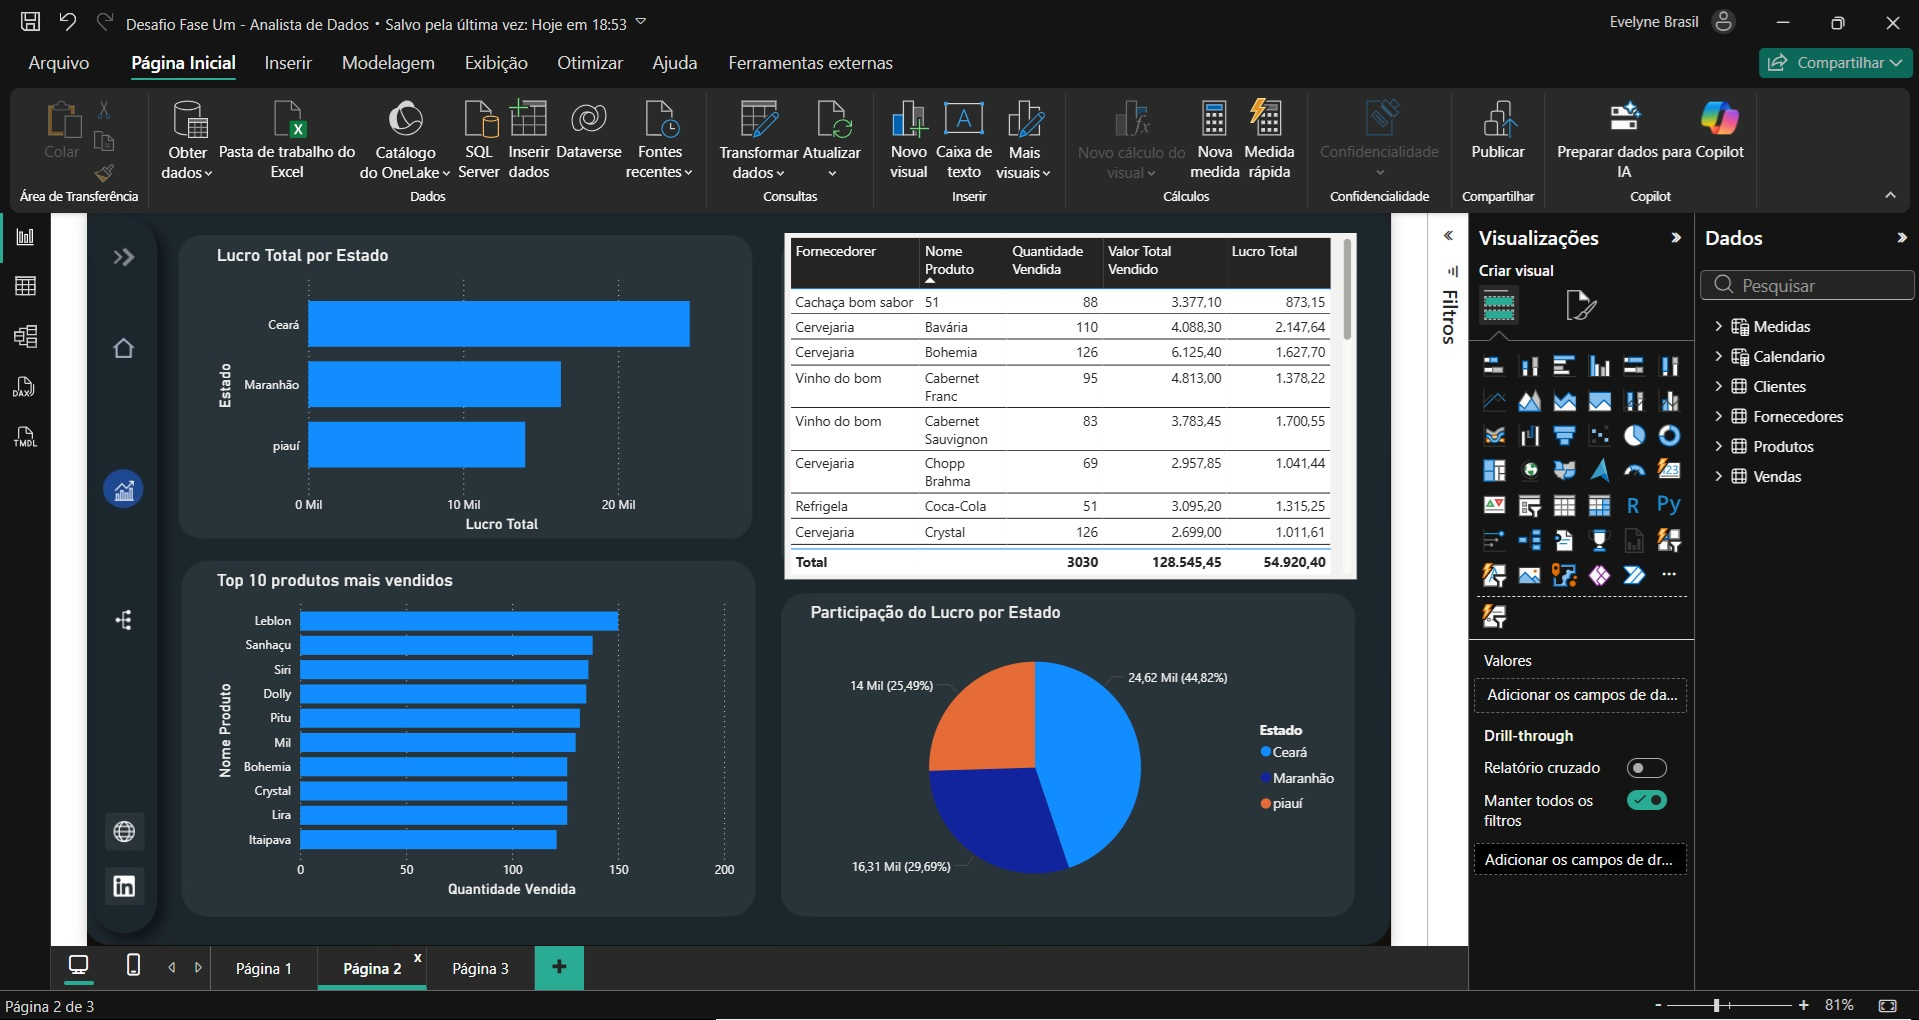

This screenshot's page, from the dashboard's own definition file:
{"tool":"powerbi","page":{"name":"Página 2","canvas":[1280,720],"ordinal":1},"visuals":[{"type":"clusteredBarChart","fields":{"Category":["Clientes.Estado"],"Y":["Medidas.Lucro Total"]},"box":[122.7,30.7,496.9,288.3],"z":0},{"type":"tableEx","fields":{"Values":["Produtos.Fornecedores.Nome","Produtos.Nome Produto","Medidas.Quantidade Vendida","Medidas.Valor Total Vendido","Medidas.Lucro Total"]},"box":[684.7,19.6,562,339.9],"z":1000},{"type":"clusteredBarChart","title":"Top 10 produtos mais vendidos","fields":{"Category":["Produtos.Nome Produto"],"Y":["Medidas.Quantidade Vendida"]},"box":[122.7,349.7,517.8,327.6],"z":2000},{"type":"pieChart","title":"Participação do Lucro por Estado","fields":{"Category":["Clientes.Estado"],"Y":["Medidas.Lucro Total"]},"box":[705.5,381.6,532.5,306.8],"z":3000},{"type":"actionButton","box":[17.2,93.4,44.2,59],"z":4000},{"type":"actionButton","box":[17.2,371.1,44.2,59],"z":5000},{"type":"actionButton","box":[11.6,589.9,44.9,31.9],"z":6000},{"type":"actionButton","box":[20.3,644.9,37.7,31.9],"z":7000}]}

Visuals, with their boxes on the page's 1280x720 design canvas (x1, y1, x2, y2). These are canvas units, not pixel positions in the 1919x1020 screenshot, which may show the page scaled, cropped or inside an application window:
clusteredBarChart - Clientes.Estado x Medidas.Lucro Total: <bbox>123, 31, 620, 319</bbox>
tableEx - Produtos.Fornecedores.Nome x Produtos.Nome Produto: <bbox>685, 20, 1247, 360</bbox>
"Top 10 produtos mais vendidos" clusteredBarChart: <bbox>123, 350, 640, 677</bbox>
"Participação do Lucro por Estado" pieChart: <bbox>706, 382, 1238, 688</bbox>
actionButton: <bbox>17, 93, 61, 152</bbox>
actionButton: <bbox>17, 371, 61, 430</bbox>
actionButton: <bbox>12, 590, 56, 622</bbox>
actionButton: <bbox>20, 645, 58, 677</bbox>
